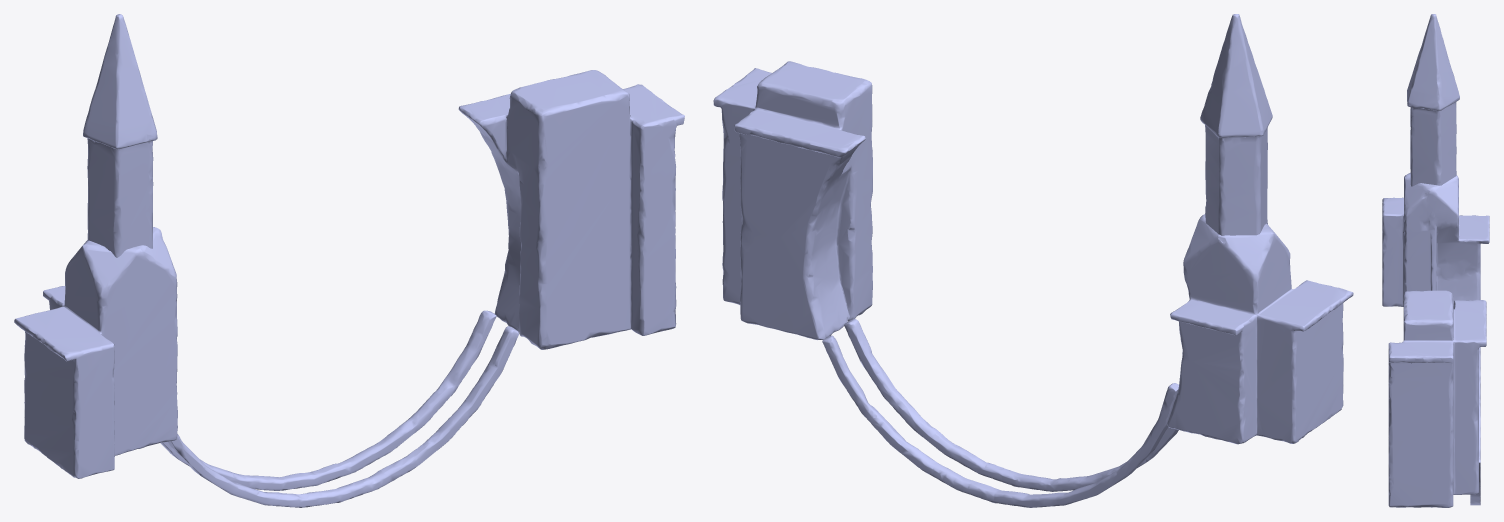
File: upper_details_l_LOD1.fbx
3 views of the same model, side by side, from view 1: azimuth 30°, elevation 25°; view 2: azimuth 150°, elevation 25°; view 3: azimuth 270°, elevation 25° (orthographic). The views are drawn at different scales.
Visible parts, largest first — view 1: Cylinder_002_LOD1; view 2: Cylinder_002_LOD1; view 3: Cylinder_002_LOD1.
Boxes of the visible parts, bbox=[...] form: Cylinder_002_LOD1: bbox=[14, 14, 684, 507]; Cylinder_002_LOD1: bbox=[713, 14, 1353, 507]; Cylinder_002_LOD1: bbox=[1382, 14, 1489, 507].
Size of the model in its own units: 811 by 676 by 166.
